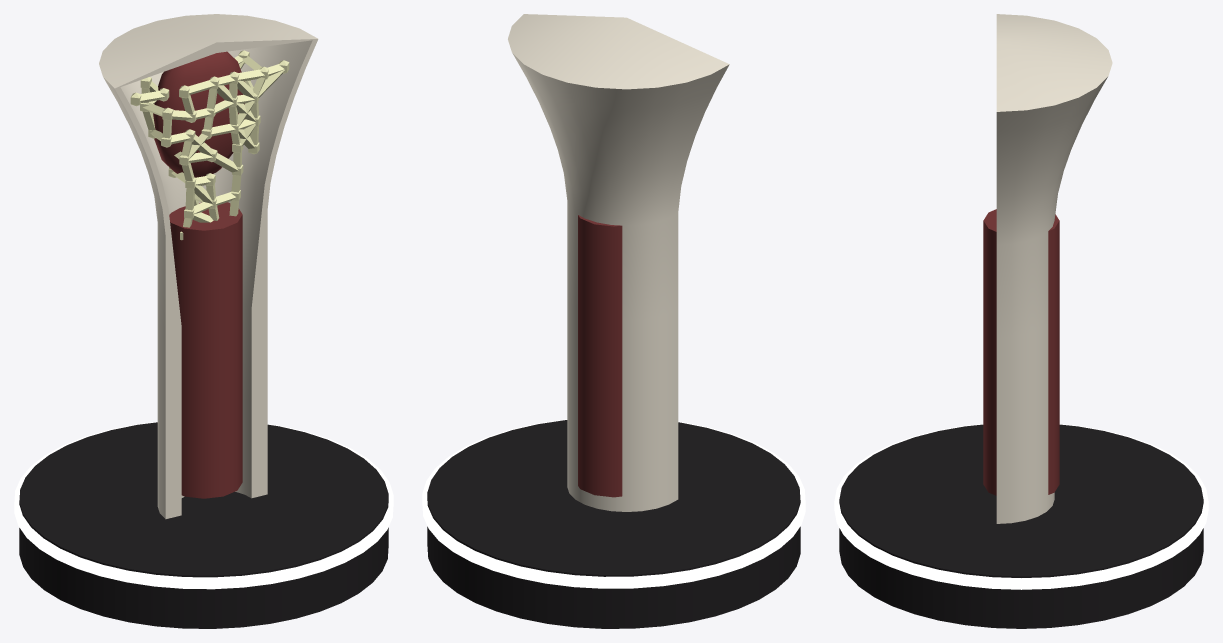
Rendered from vigil-bone-section.glb.
The picture shows the model from 3 angles, left to right: view 1: azimuth 30°, elevation 25°; view 2: azimuth 150°, elevation 25°; view 3: azimuth 270°, elevation 25°; orthographic projection. The views are drawn at different scales.
Visible parts, largest first — view 1: Plinth, Bone_Cortical, Bone_Marrow, Bone_Trabecular; view 2: Plinth, Bone_Cortical, Bone_Marrow; view 3: Plinth, Bone_Cortical, Bone_Marrow.
Part boxes in pixels (x1,y1,x2,y2): Plinth: (14, 421, 393, 628); Bone_Cortical: (99, 14, 318, 519); Bone_Marrow: (153, 51, 245, 498); Bone_Trabecular: (130, 50, 289, 240); Plinth: (422, 419, 805, 628); Bone_Cortical: (508, 14, 729, 511); Bone_Marrow: (578, 215, 622, 497); Plinth: (834, 424, 1208, 628); Bone_Cortical: (996, 14, 1112, 523); Bone_Marrow: (983, 209, 1059, 495).
Bounding box in the file's own units: 0.452 × 0.68 × 0.452.
